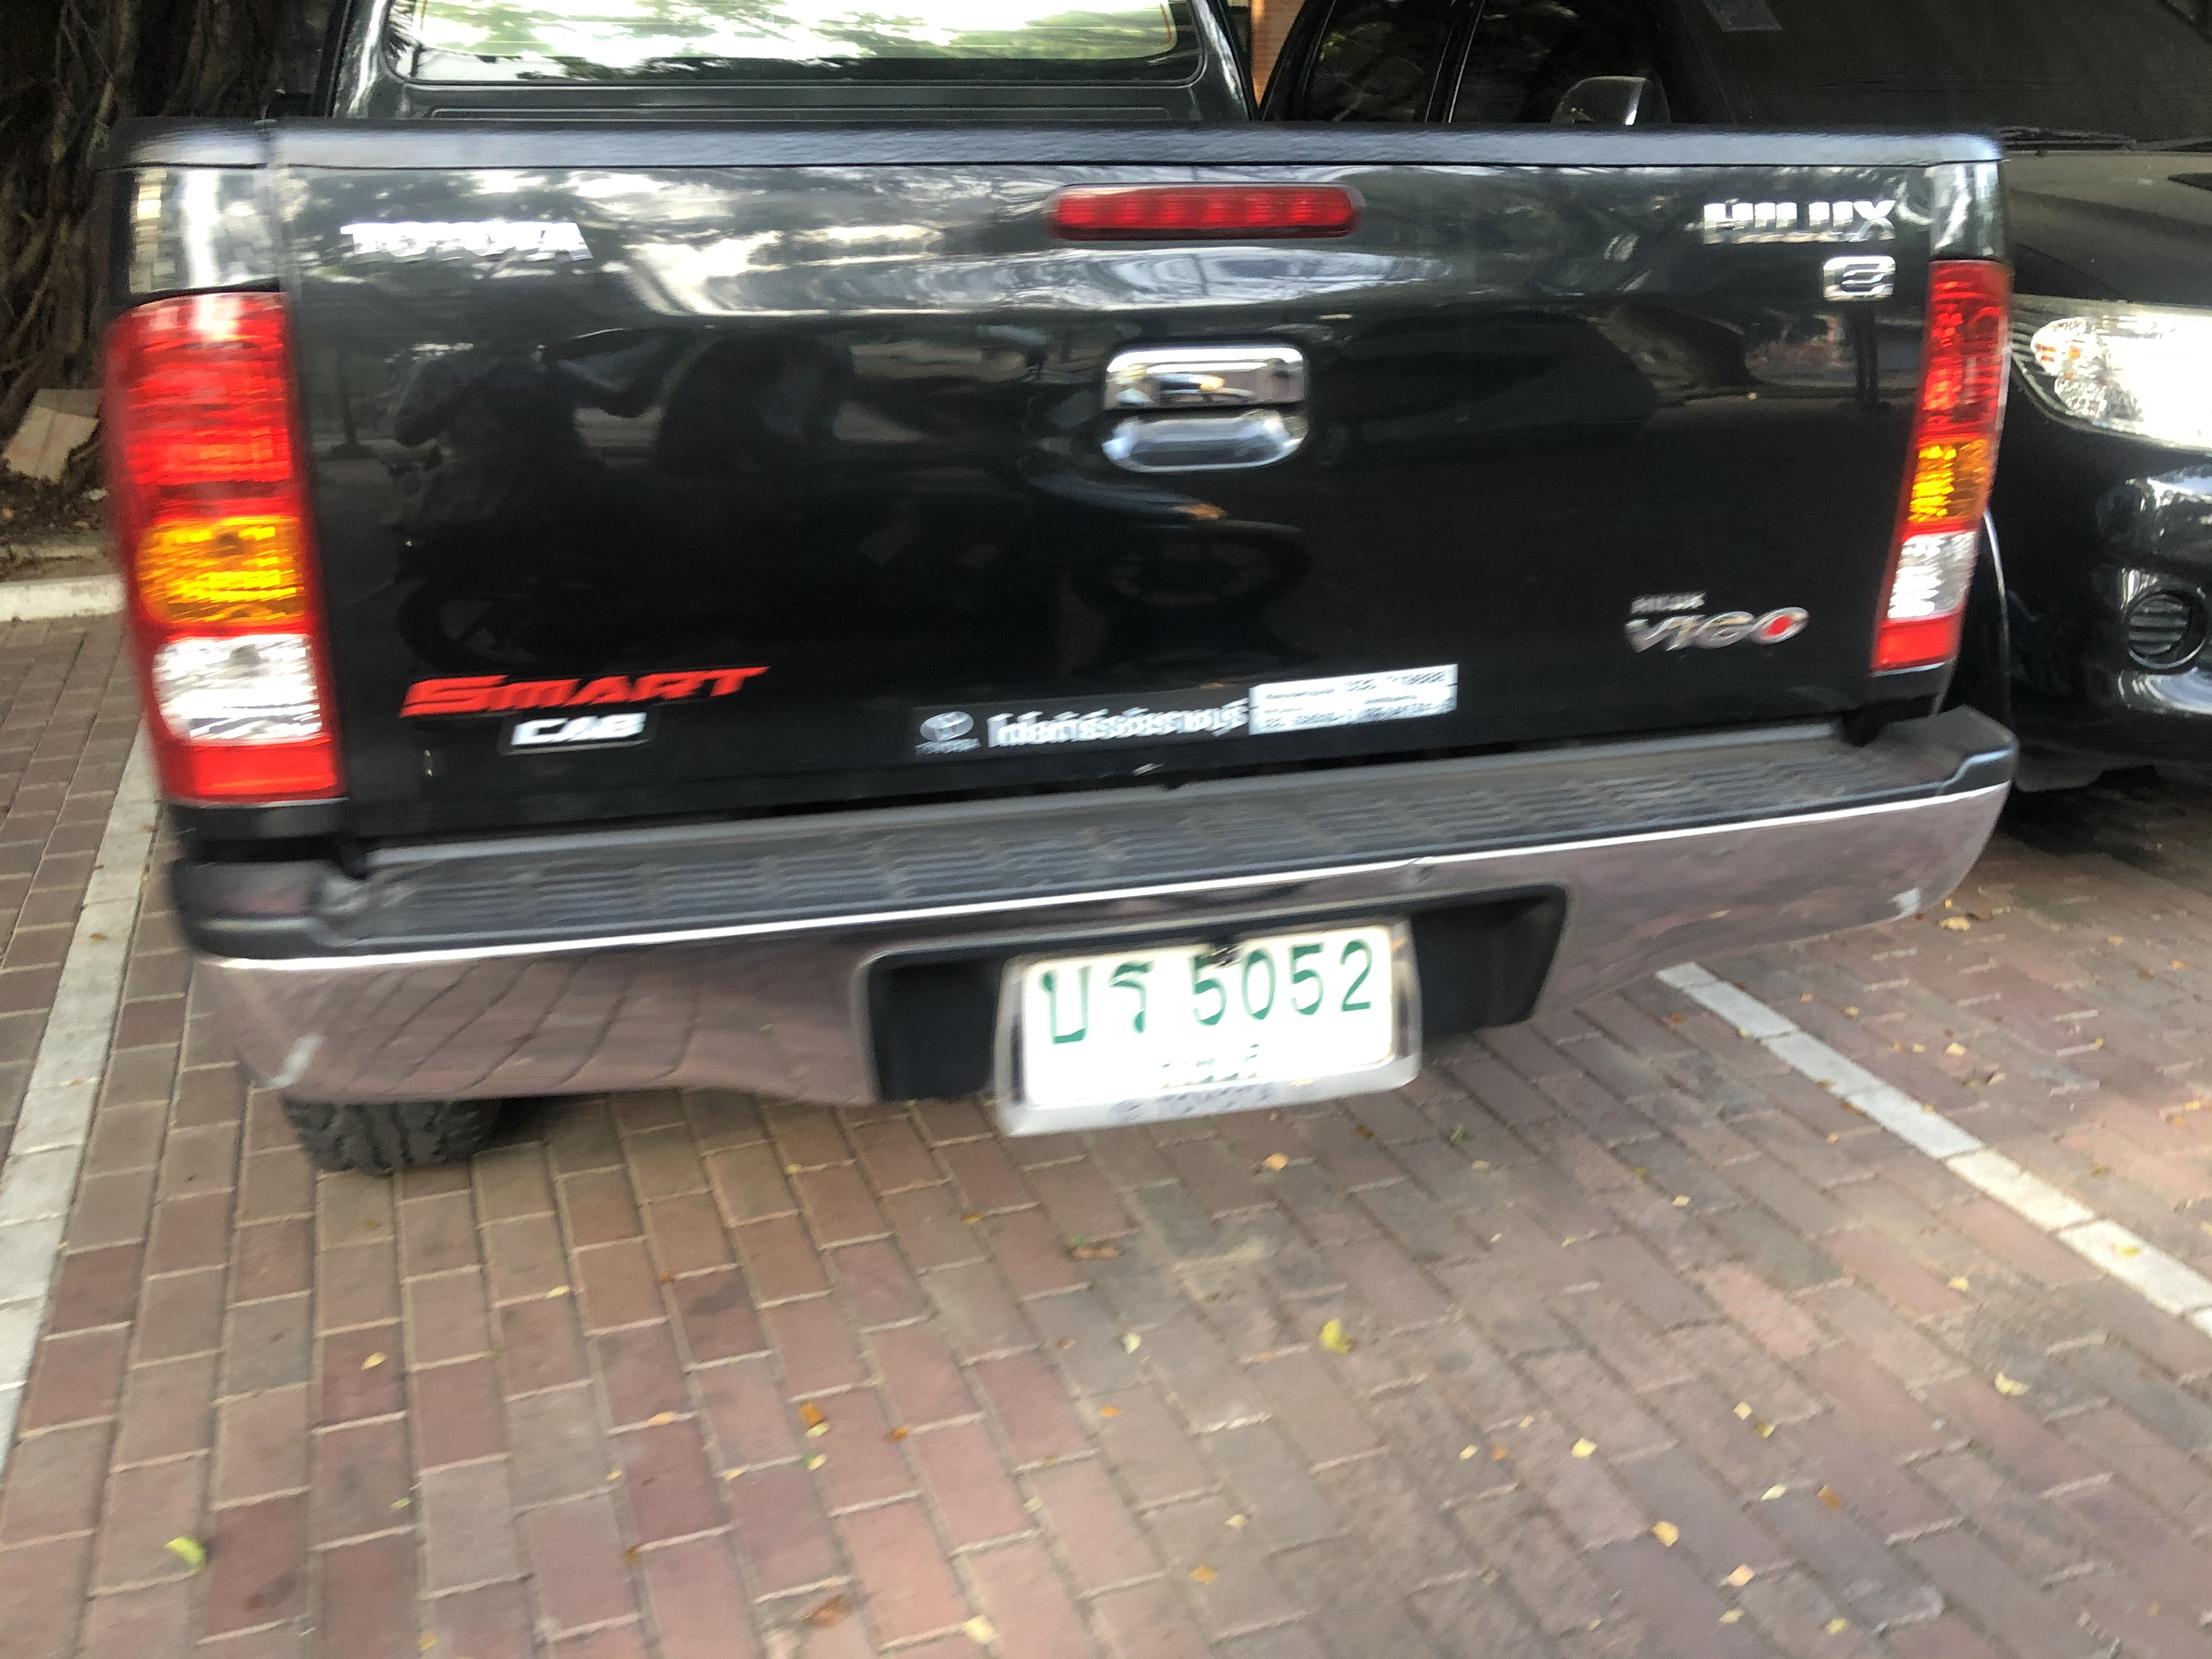in: (1024, 931, 1404, 1098)
out: (993, 915, 1418, 1131)
